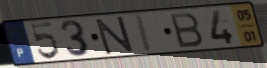3: (59, 19, 92, 59)
4: (209, 8, 235, 46)
5: (29, 20, 62, 61)
B: (167, 11, 205, 49)
I: (135, 12, 155, 54)
N: (94, 15, 136, 57)
